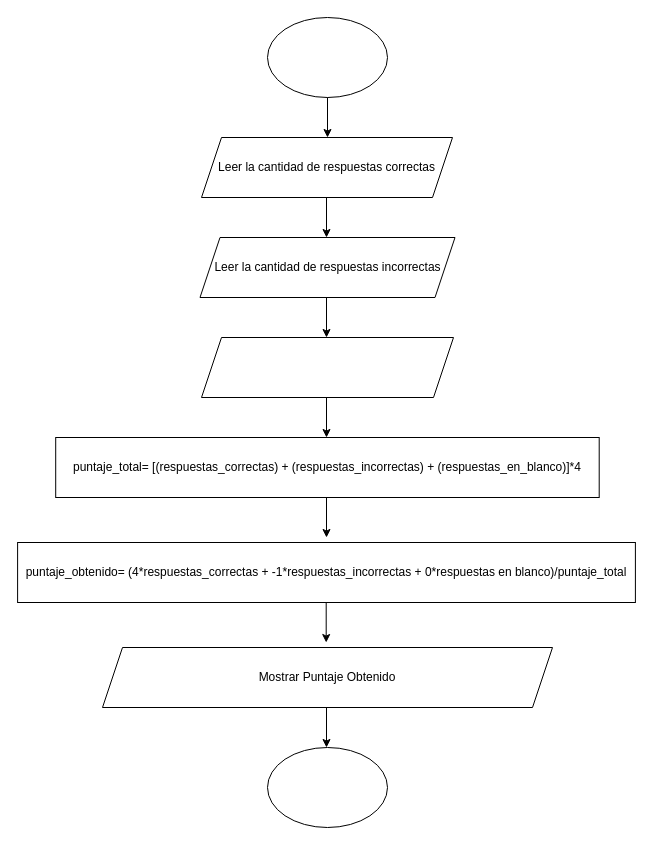
Some shapes in this 653 by 845 pixel diagram are drawn without their labels. Each missing label, with the box of its shape:
FIN: (266, 746, 388, 828)
Inicio: (266, 16, 388, 98)
Leer la cantidad de respuestas en blanco: (200, 336, 454, 398)
